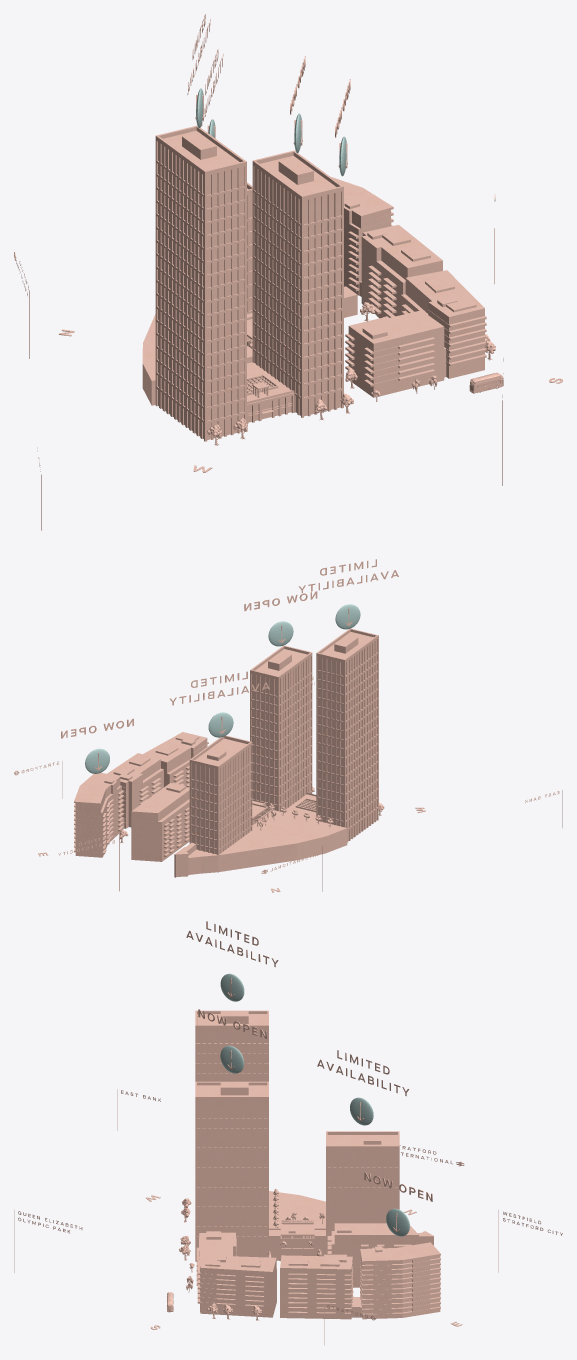
The model's file is CMS27.gltf.
3 renders of one model, top to bottom at view 1: azimuth 30°, elevation 25°; view 2: azimuth 150°, elevation 25°; view 3: azimuth 270°, elevation 25°, orthographic. The views are drawn at different scales.
Visible parts, largest first — view 1: Xavier, Bussell, Hows, Sandhu, Bulk, Harrison; view 2: Xavier, Bussell, Harrison, Bulk, Sandhu, Aarons, Hows, Open4, Open2, Arrow4, Arrow, Arrow3 (+1 smaller); view 3: Bussell, Sandhu, Harrison, Hows, Xavier, Bulk, Aarons, Open2, Open4, Arrow, Arrow3, Arrow4 (+1 smaller).
Part boxes in pixels (bbox=[...]): Xavier: bbox=[155, 125, 246, 441]; Bussell: bbox=[252, 150, 343, 417]; Hows: bbox=[345, 270, 486, 397]; Sandhu: bbox=[330, 176, 442, 318]; Bulk: bbox=[29, 228, 562, 530]; Harrison: bbox=[247, 182, 252, 314]; Xavier: bbox=[316, 628, 378, 842]; Bussell: bbox=[250, 645, 312, 811]; Harrison: bbox=[174, 735, 252, 877]; Bulk: bbox=[38, 761, 562, 892]; Sandhu: bbox=[74, 753, 163, 857]; Aarons: bbox=[131, 783, 189, 861]; Hows: bbox=[143, 732, 208, 787]; Open4: bbox=[169, 671, 269, 705]; Open2: bbox=[298, 559, 398, 592]; Arrow4: bbox=[208, 712, 233, 737]; Arrow: bbox=[335, 604, 360, 629]; Arrow3: bbox=[268, 621, 293, 646]; Bussell: bbox=[195, 1081, 268, 1261]; Sandhu: bbox=[280, 1242, 440, 1319]; Harrison: bbox=[326, 1131, 433, 1254]; Hows: bbox=[196, 1231, 276, 1317]; Xavier: bbox=[195, 1010, 268, 1081]; Bulk: bbox=[14, 1089, 498, 1345]; Aarons: bbox=[327, 1223, 418, 1287]; Open2: bbox=[186, 921, 278, 967]; Open4: bbox=[317, 1050, 409, 1096]; Arrow: bbox=[220, 973, 244, 1001]; Arrow3: bbox=[220, 1045, 244, 1073]; Arrow4: bbox=[350, 1097, 373, 1125].
Size of the model in its own units: 308 by 182 by 313.
Materials: 3 (2 with a texture image).
